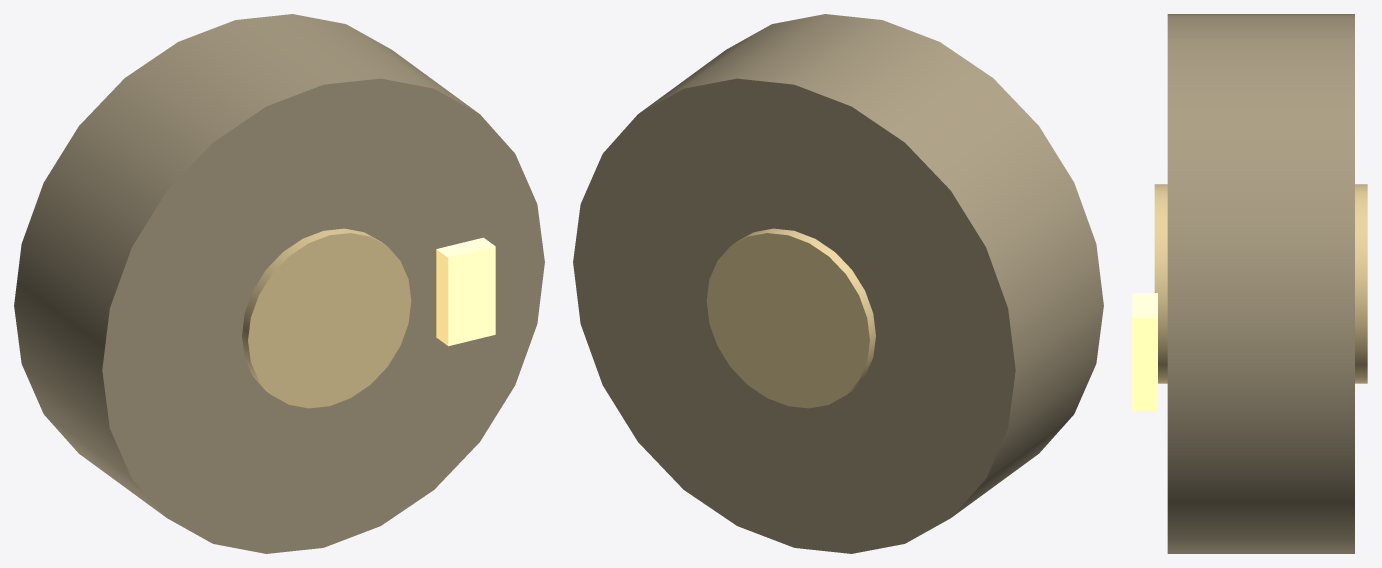
The model's file is track_road_sand.glb.
3 views of the same model, side by side, from view 1: azimuth 30°, elevation 25°; view 2: azimuth 150°, elevation 25°; view 3: azimuth 270°, elevation 25° (orthographic). The views are drawn at different scales.
Visible parts, largest first — view 1: sand_road_wheel, sand_hub, sand_rotation_witness; view 2: sand_road_wheel, sand_hub; view 3: sand_road_wheel, sand_hub, sand_rotation_witness.
Part boxes in pixels (x1,y1,x2,y2): sand_road_wheel: (14, 14, 544, 553); sand_hub: (242, 228, 411, 408); sand_rotation_witness: (436, 237, 495, 346); sand_road_wheel: (573, 14, 1103, 553); sand_hub: (706, 228, 875, 408); sand_road_wheel: (1167, 14, 1354, 553); sand_hub: (1154, 184, 1367, 383); sand_rotation_witness: (1132, 293, 1157, 411).
Size of the model in its own units: 0.168 by 0.168 by 0.073.
